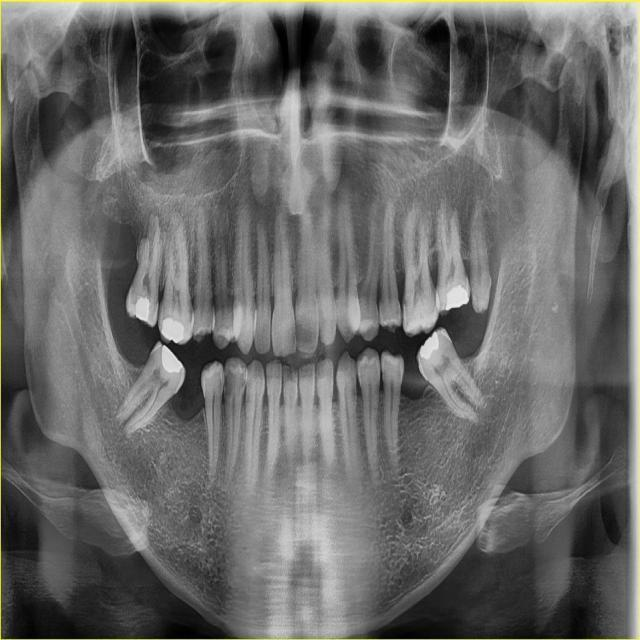Caries: (223, 367, 247, 404), (402, 292, 408, 324), (290, 319, 297, 346), (187, 296, 194, 320), (295, 320, 302, 338), (218, 373, 223, 398), (396, 302, 401, 320), (194, 296, 198, 313), (382, 367, 387, 380), (211, 297, 215, 313)
Filling: (161, 345, 183, 374), (445, 284, 468, 311), (160, 316, 183, 342), (420, 331, 439, 360), (136, 297, 150, 321)
Missing teeth: (167, 366, 206, 422), (400, 352, 429, 402)
